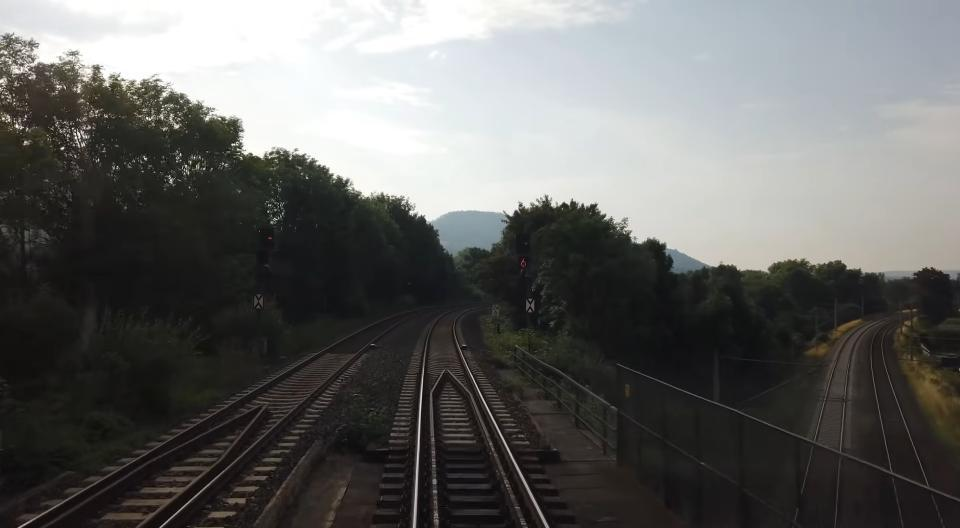Plant: (500, 380, 516, 393)
